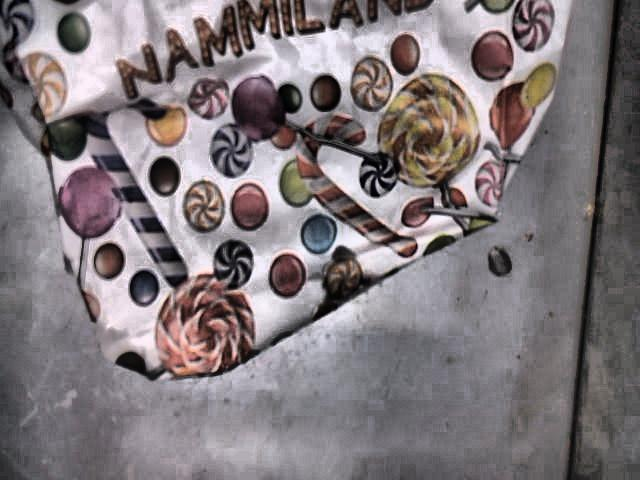Paper: (0, 2, 572, 385)
